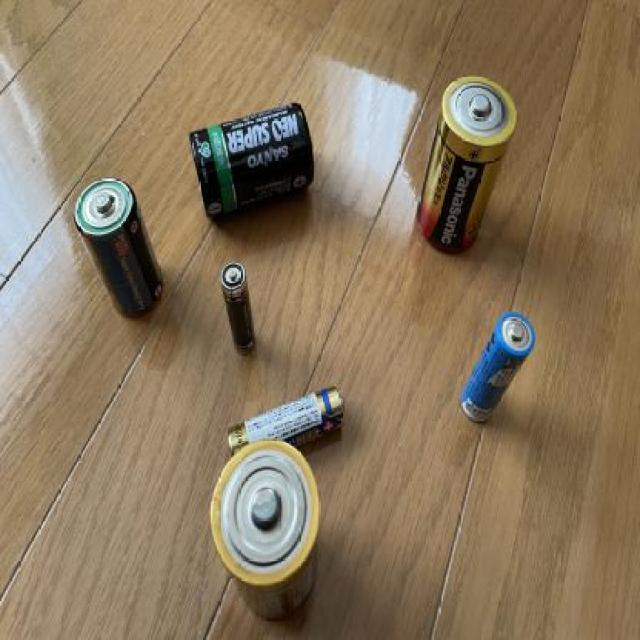hazardous waste: (208, 440, 324, 617), (415, 70, 517, 258), (186, 98, 319, 215), (74, 174, 166, 323), (223, 380, 349, 468), (458, 309, 538, 429), (216, 261, 264, 357)
